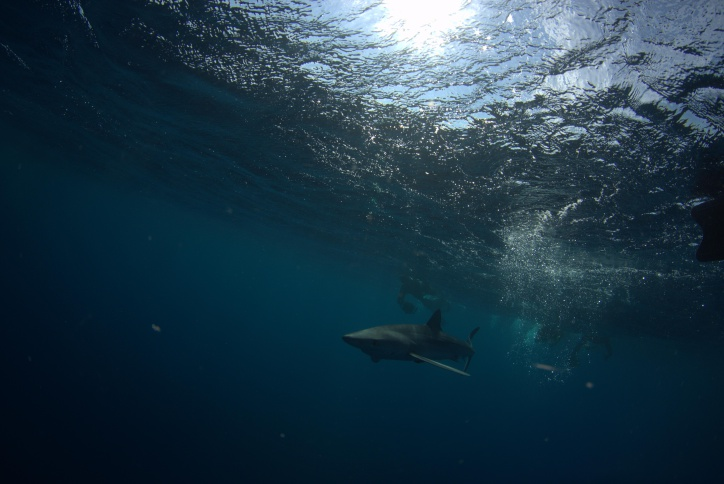Azul: (340, 290, 493, 382)
